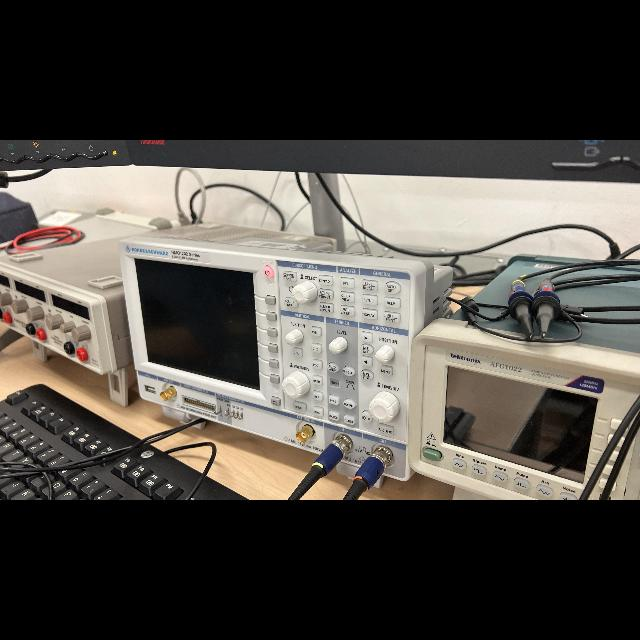Digital-Oscilloscope: (119, 223, 451, 480)
